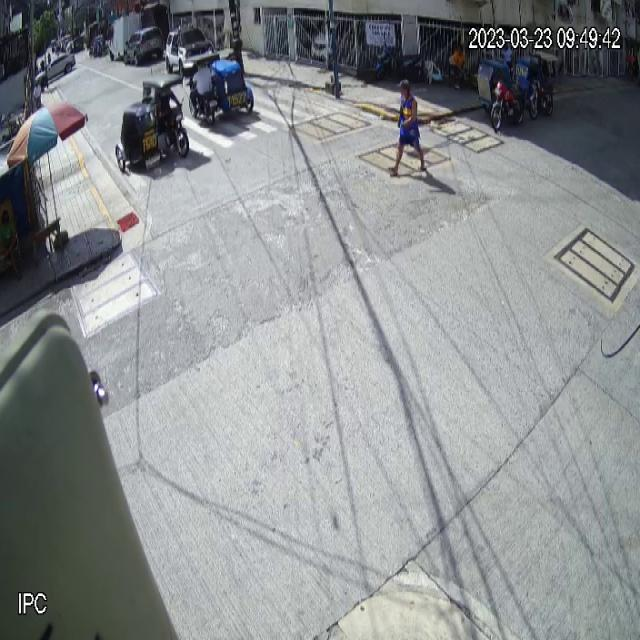Tricycle: (115, 73, 190, 174), (186, 50, 255, 126)
